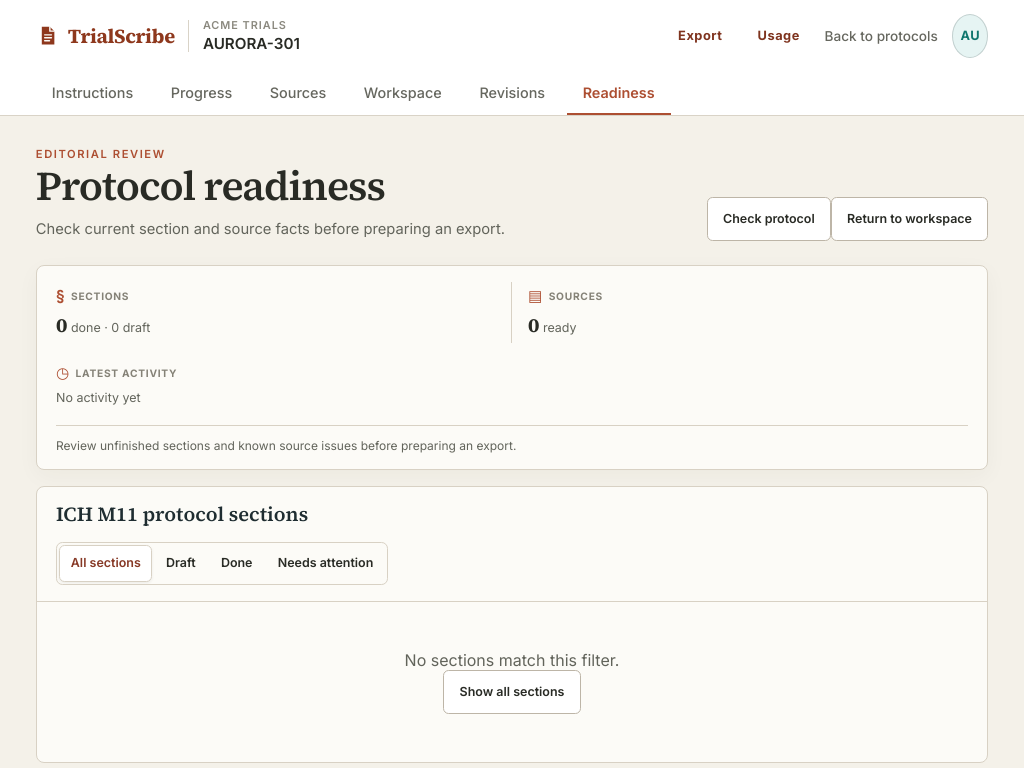
Test case: ReadinessPage › posts validate_readiness and renders snapshot issues
Expected: the heading "Protocol readiness" is shown, [36,158,385,214]
Click the button "Check protocol" at {"x": 769, "y": 219}, box [707,197,831,241]
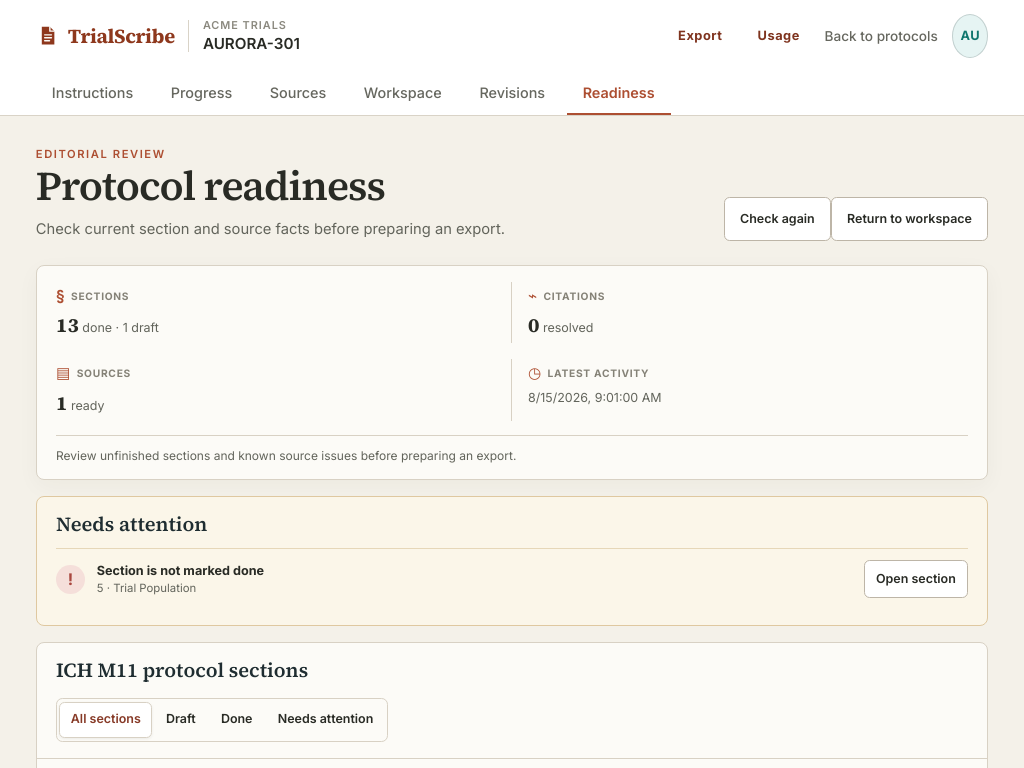
Now the text "Section is not marked done" is shown, box [97,563,264,578]
Now the button "Check again" is shown, box [724,197,831,241]
